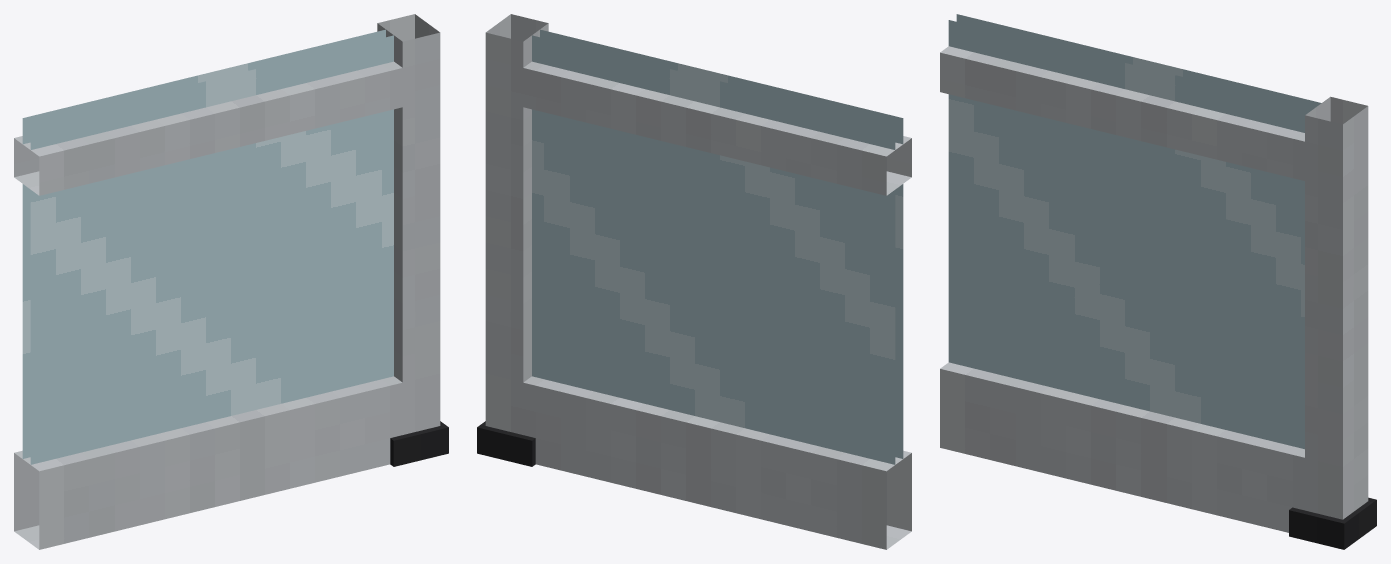
File: auto_door_wide_slider_clear_c0_lower_right_open.obj
3 views of the same model, side by side, from view 1: azimuth 30°, elevation 25°; view 2: azimuth 150°, elevation 25°; view 3: azimuth 330°, elevation 25° (orthographic).
Visible parts, largest first — view 1: auto_door_wide_slider_clear_c0_lower_right_open; view 2: auto_door_wide_slider_clear_c0_lower_right_open; view 3: auto_door_wide_slider_clear_c0_lower_right_open.
Part boxes in pixels (x1,y1,x2,y2): auto_door_wide_slider_clear_c0_lower_right_open: [14, 14, 448, 549]; auto_door_wide_slider_clear_c0_lower_right_open: [477, 14, 911, 549]; auto_door_wide_slider_clear_c0_lower_right_open: [940, 14, 1376, 549].
Size of the model in its own units: 1.01 by 1 by 0.1406.
